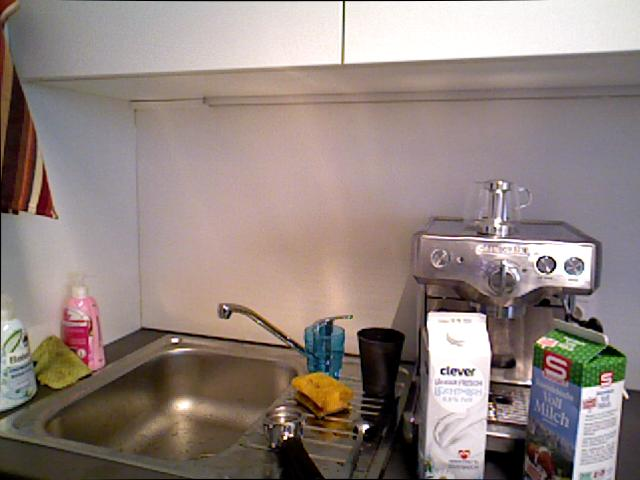bench: (531, 325, 624, 480), (414, 310, 486, 480), (62, 272, 106, 374), (2, 293, 37, 414)
couch: (40, 346, 304, 454)
handbag: (462, 178, 533, 237), (356, 326, 405, 399), (304, 323, 345, 380)
